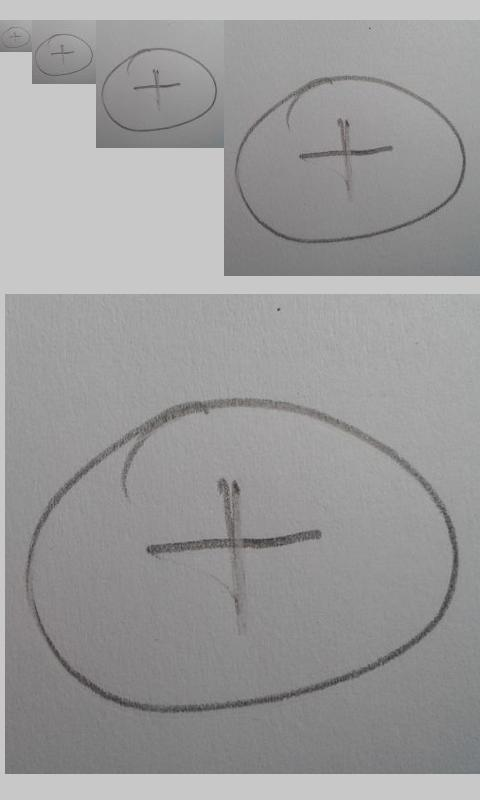button: (23, 396, 461, 717), (234, 75, 468, 244), (101, 47, 219, 132), (34, 33, 93, 77), (1, 26, 31, 49)
